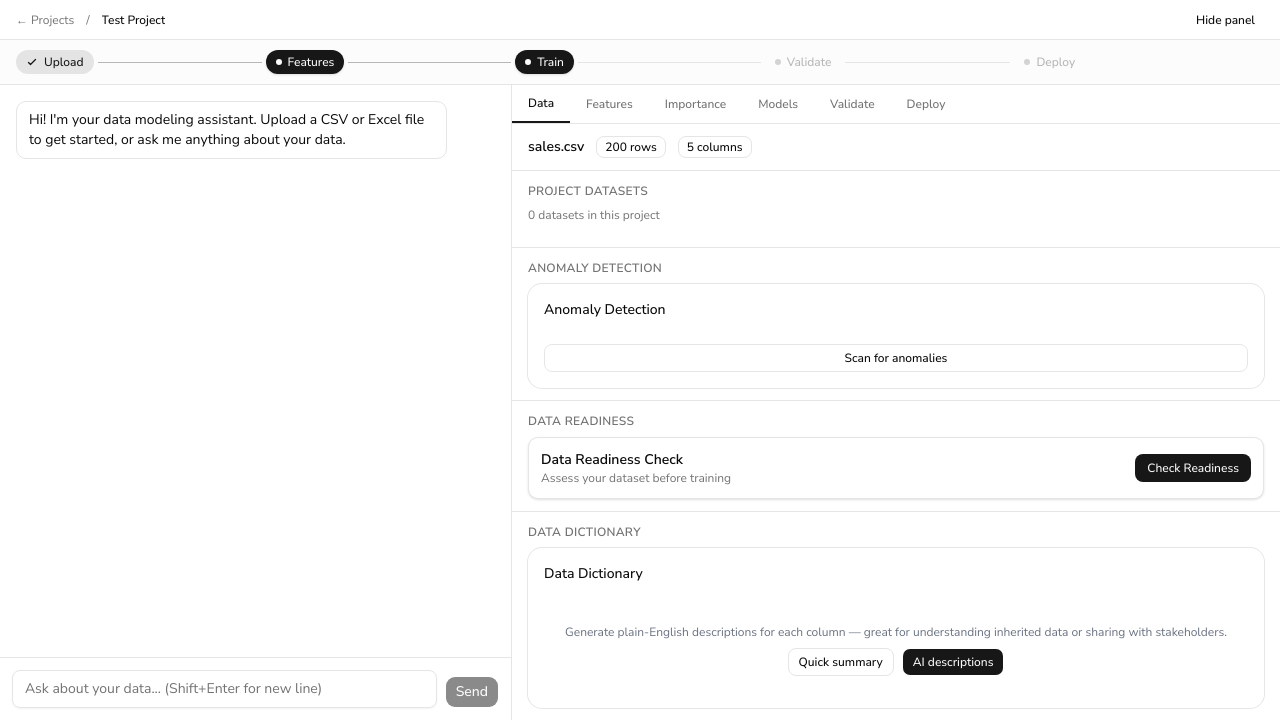
Test: ProjectWorkspace — tab switching › switches to Importance tab showing target column input
Click the tab "Importance" at (696, 104), box [649,85,742,123]
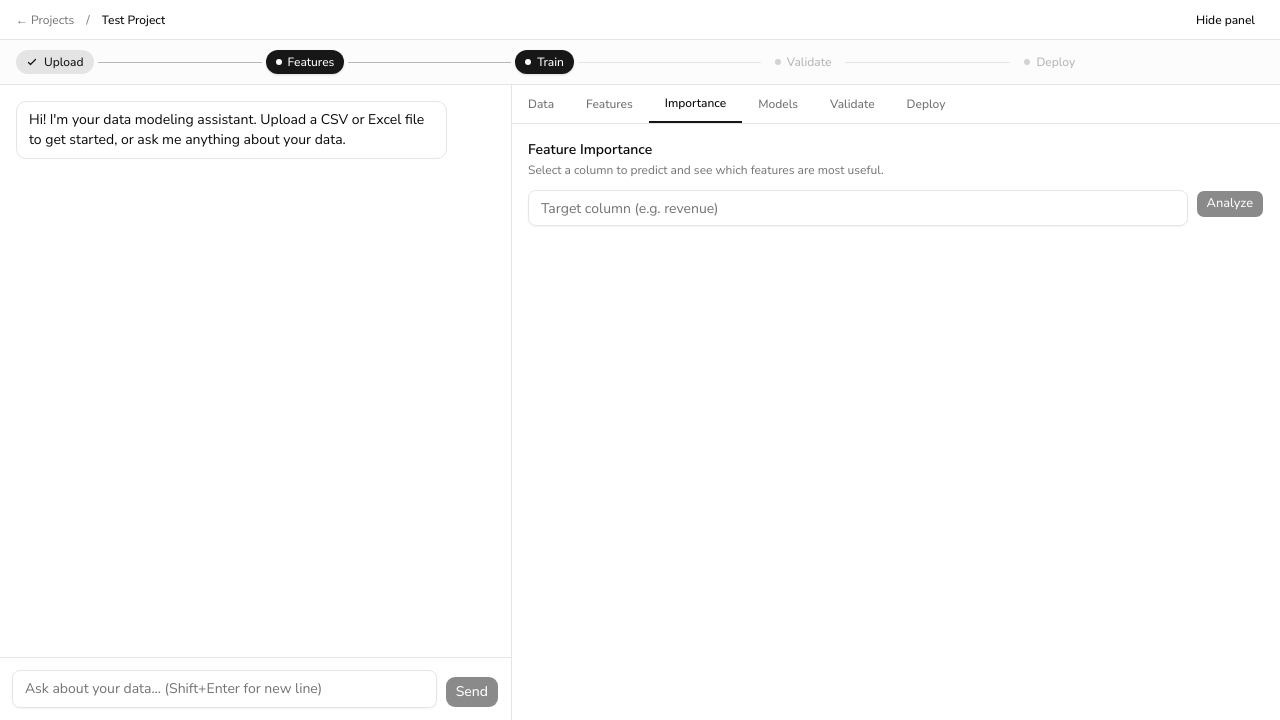
Now the field with placeholder "Target column (e.g. revenue)" is shown, box [528,190,1188,226]
